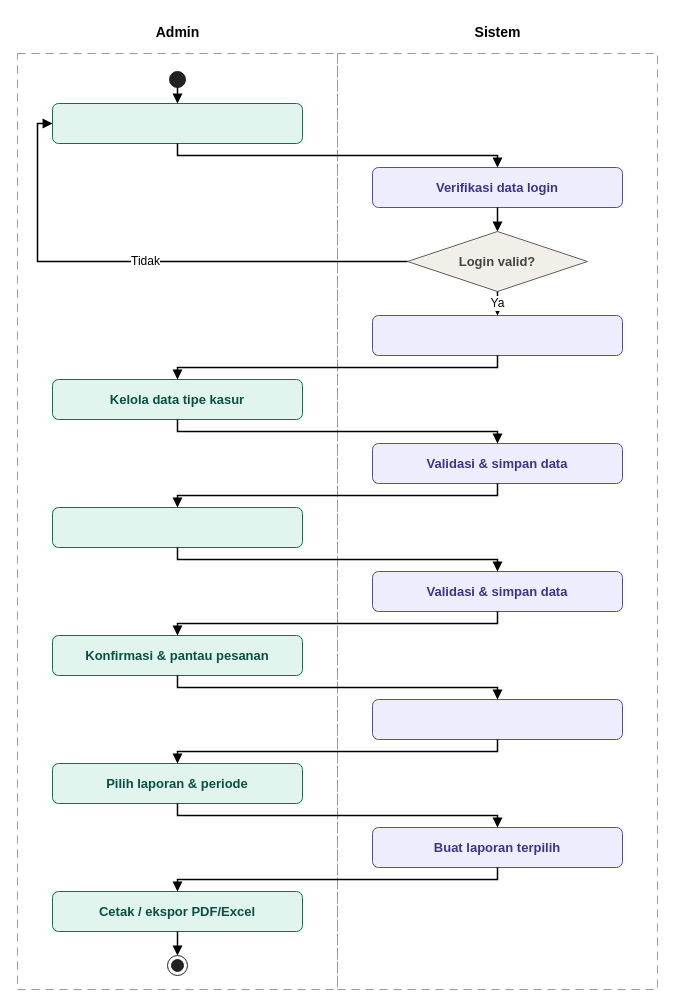
This 675x1007 diagram has some shape labels left out. The shapes that lost their labels are listed below. From the top down, each one's centre as x and y in pixels, then its label:
At (177,123): "Isi username & password".
At (497,335): "Tampilkan menu Admin".
At (177,527): "Kelola data pelanggan".
At (497,719): "Perbarui status & stok".
